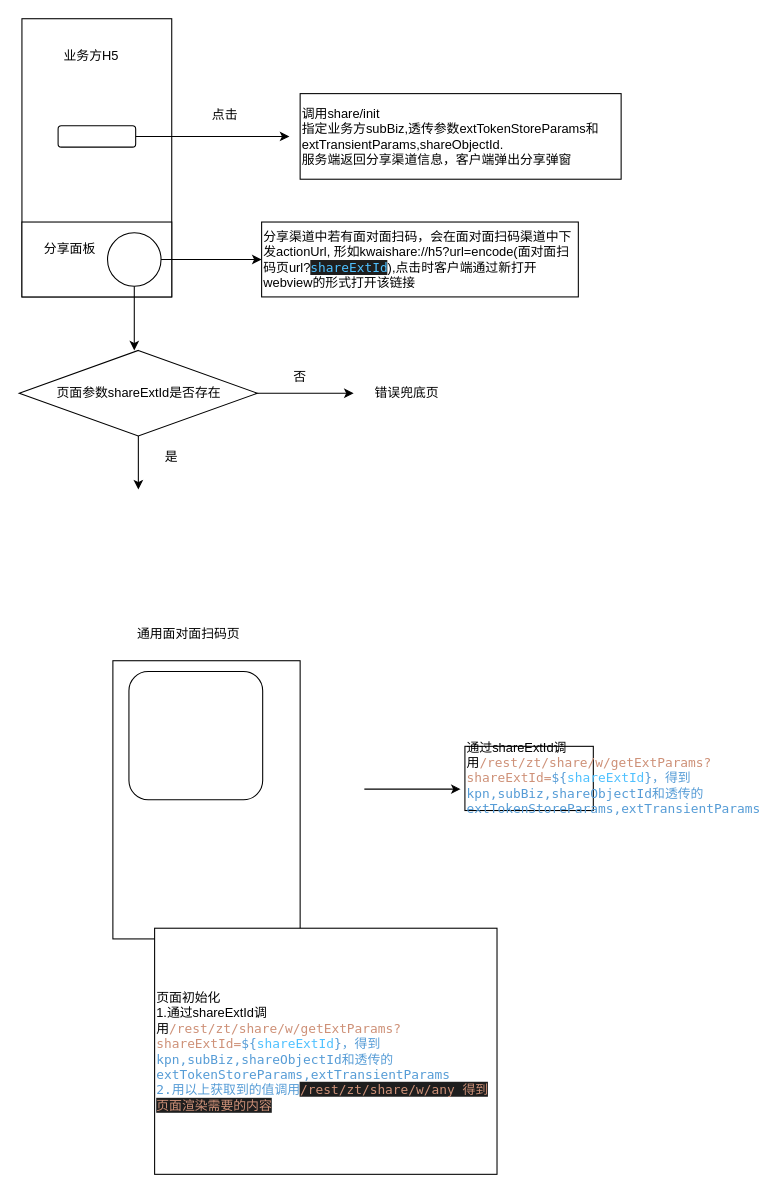
This 779x1193 diagram has some shape labels left out. The centre of each missing label's shape, as x and y in pixels:
"二维码" belongs at point 195,735.
"分享按钮" belongs at point 96,136.
"面对面" belongs at point 133,259.
